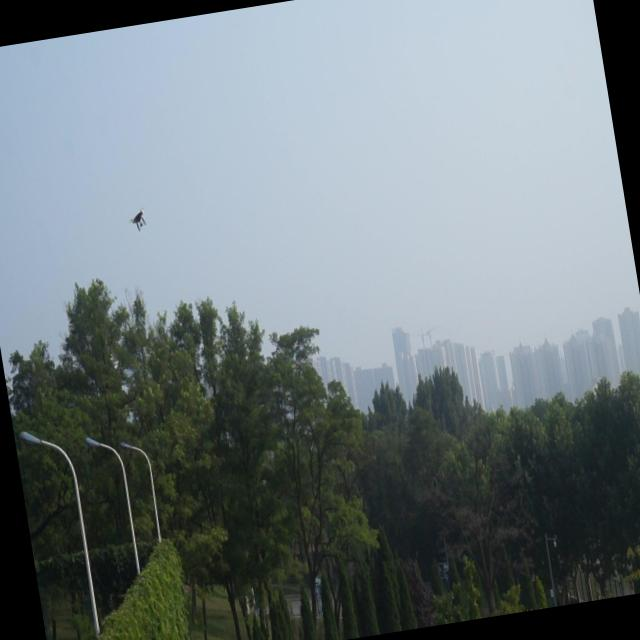drone: (124, 205, 152, 236)
